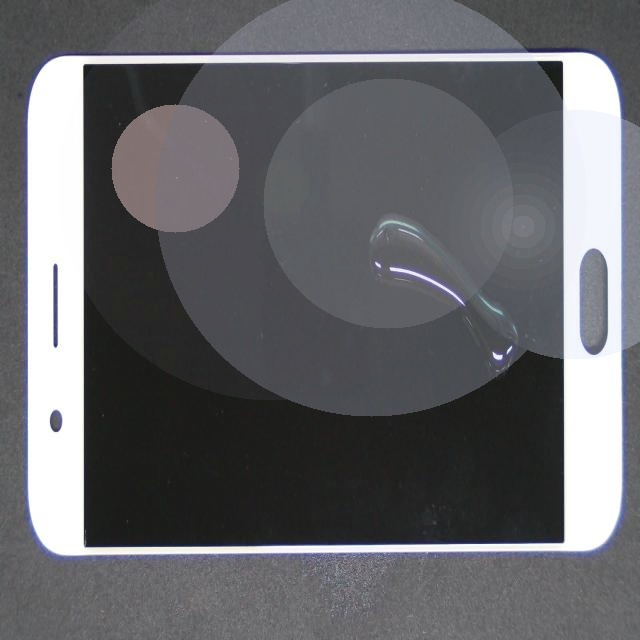oil: (165, 145, 599, 436)
